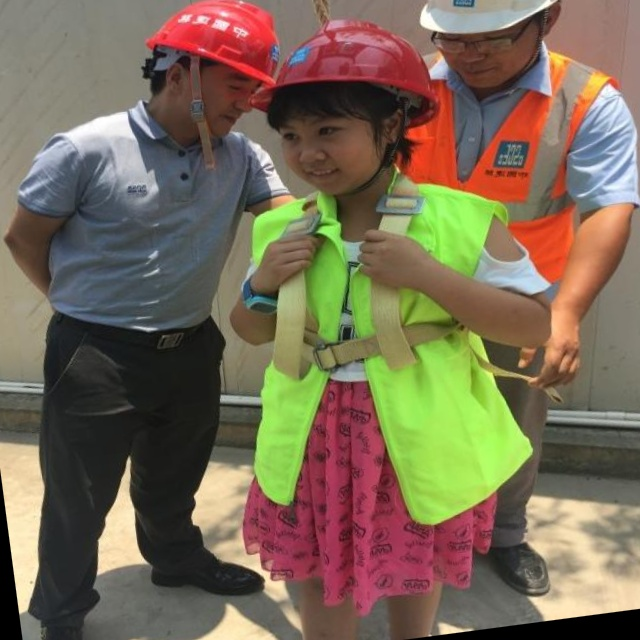Con_Casco: (138, 0, 289, 152), (413, 0, 579, 79)
